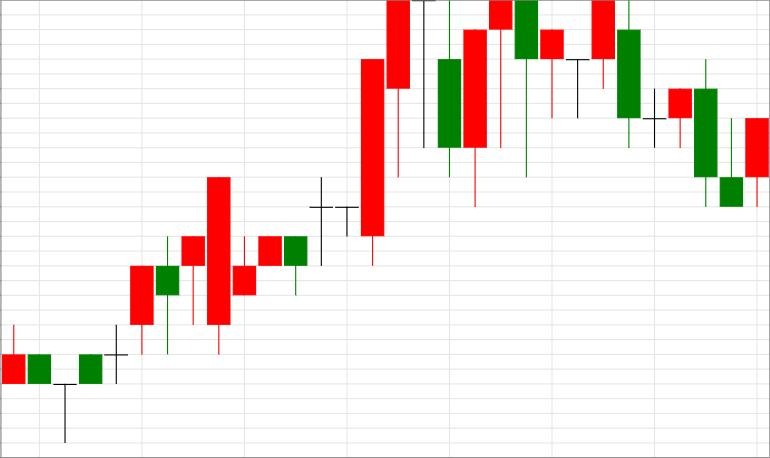hanging_man_fall: (53, 236, 205, 442)
inverse_hammer_rise: (618, 0, 742, 206)
